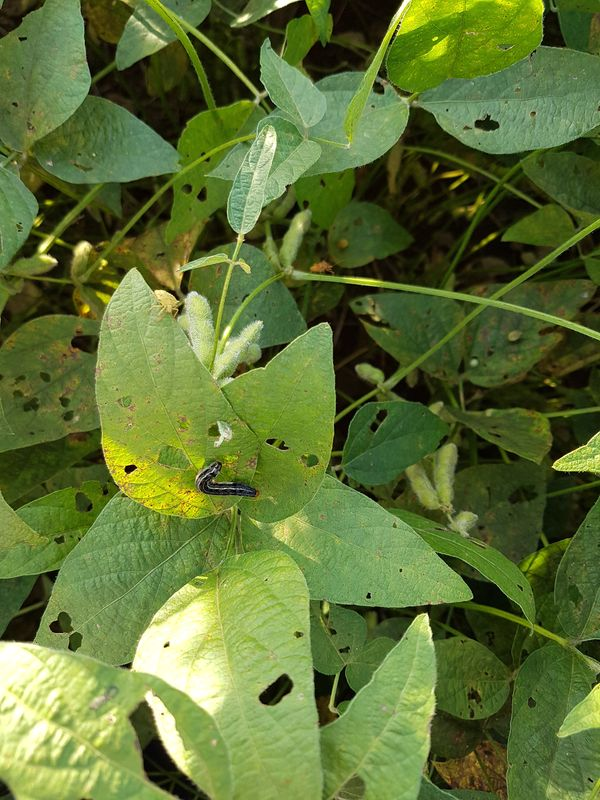Euschistus_heros_adulto: (305, 253, 343, 281)
Euschistus_heros_ninfa: (141, 279, 188, 326)
Spodoptera_albula: (184, 449, 271, 512)
